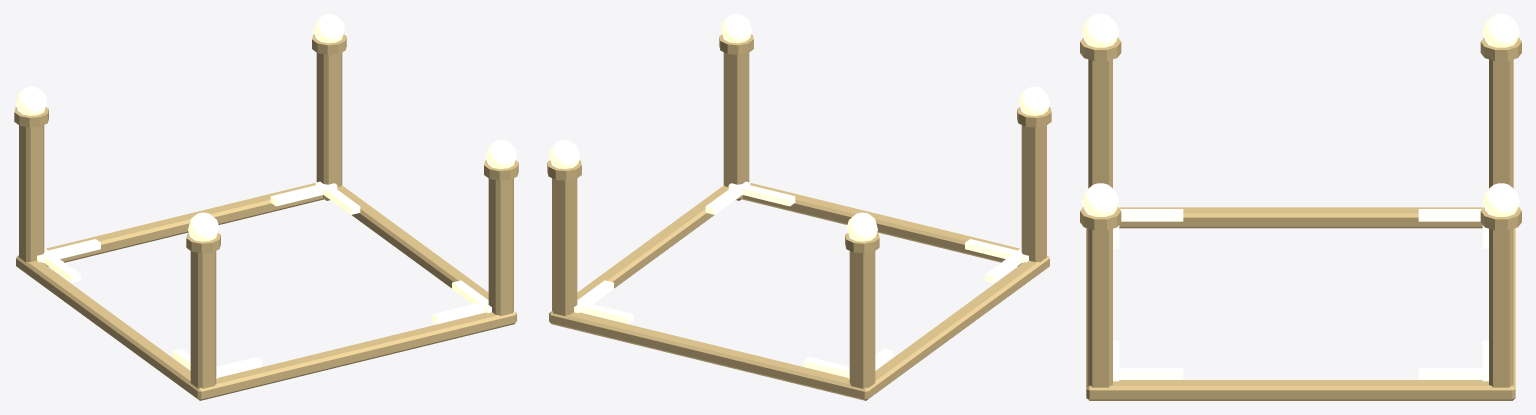
Rendered from cursor.glb.
3 views of the same model, side by side, from view 1: azimuth 30°, elevation 25°; view 2: azimuth 150°, elevation 25°; view 3: azimuth 270°, elevation 25° (orthographic). The views are drawn at different scales.
Visible parts, largest first — view 1: cursor; view 2: cursor; view 3: cursor.
Part boxes in pixels (box(x1,y1,x2,y2)): cursor: box(14, 14, 518, 400); cursor: box(547, 14, 1051, 400); cursor: box(1080, 14, 1521, 400).
Bounding box in the file's own units: 1.07 × 0.565 × 1.07.
